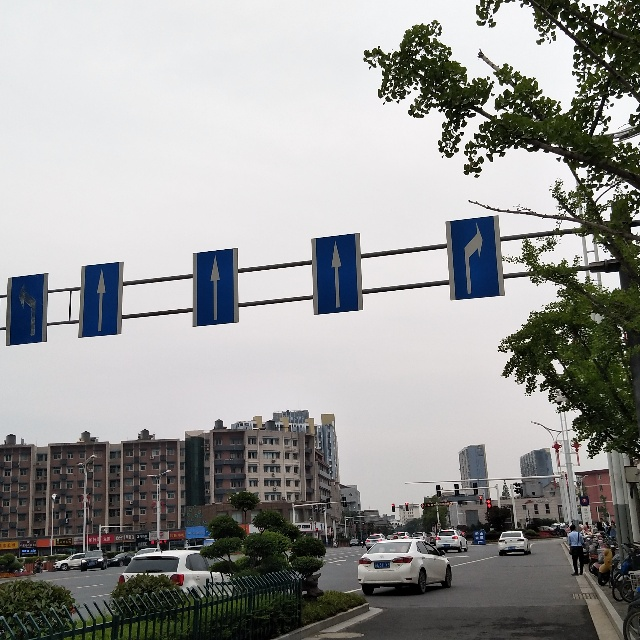left: (5, 273, 48, 348)
right: (445, 216, 506, 301)
straight: (311, 232, 363, 316), (192, 248, 240, 328), (78, 261, 124, 338)
